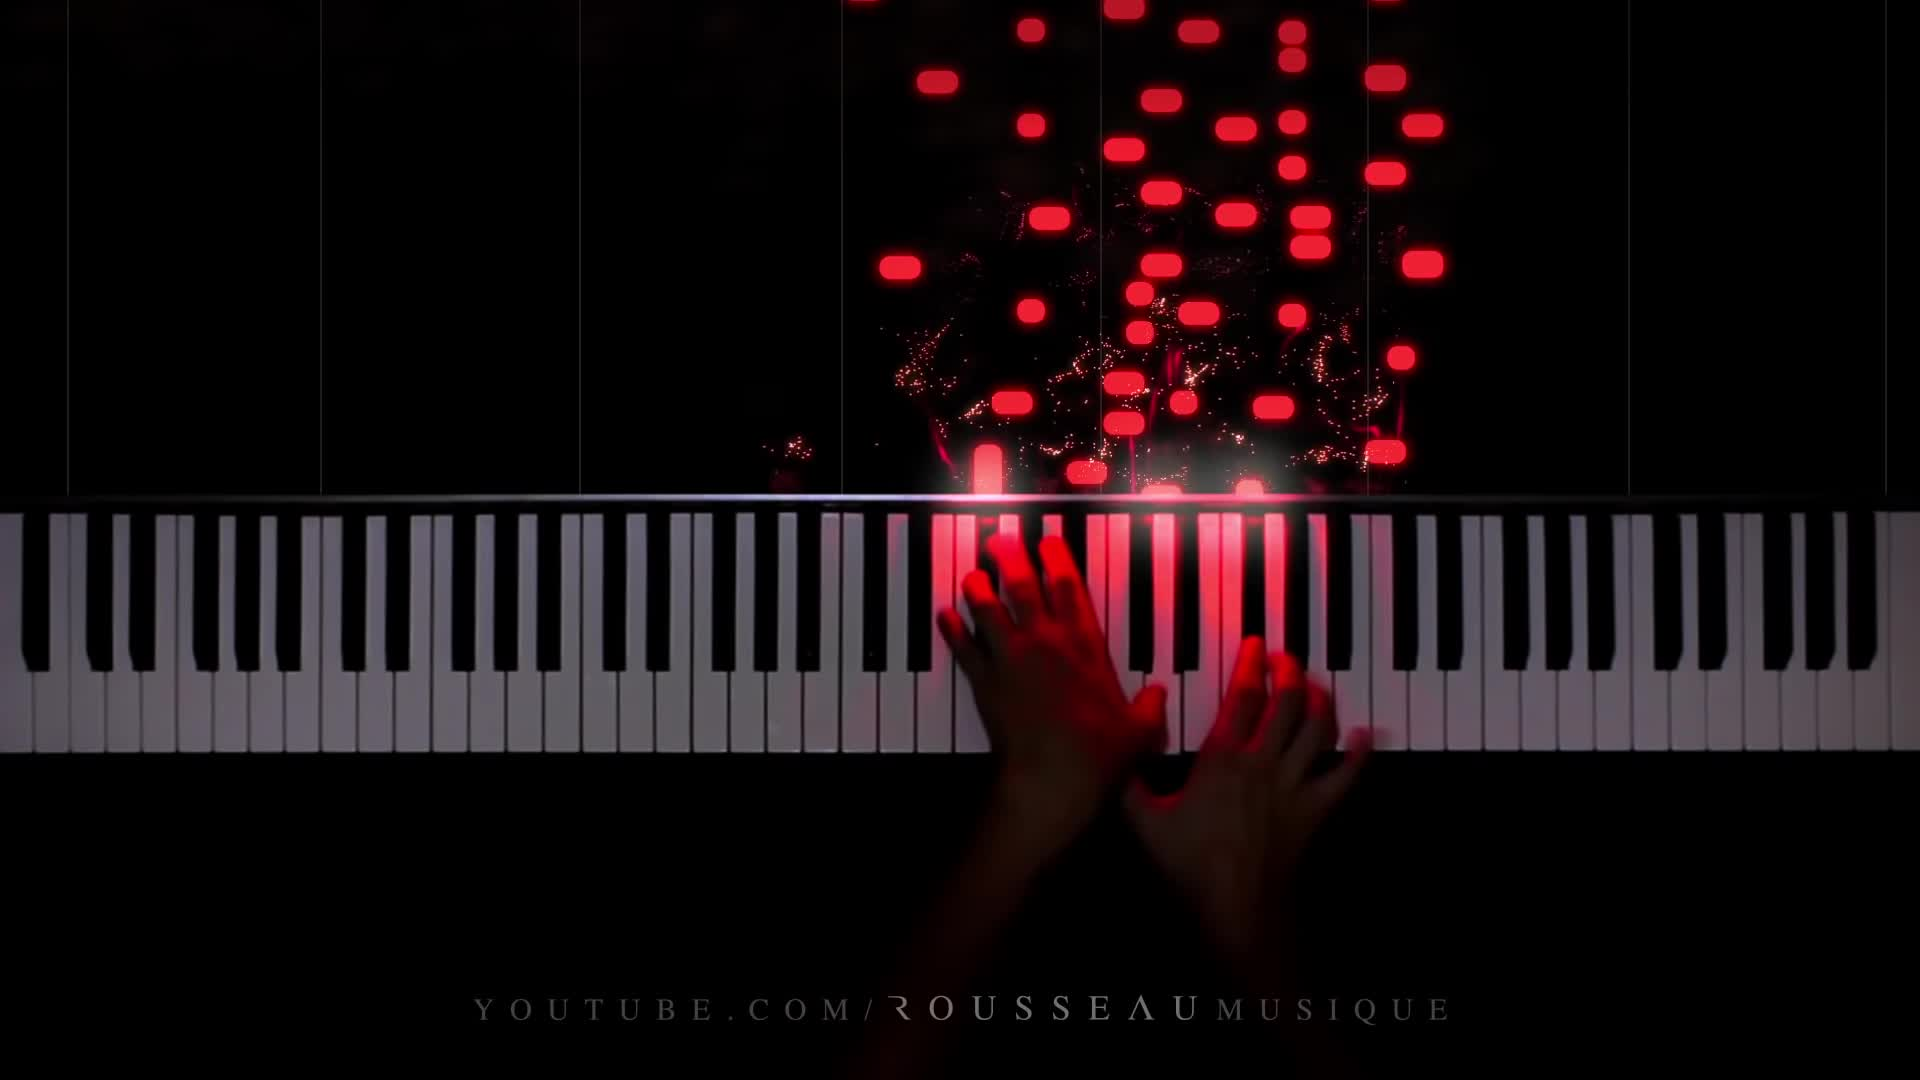left: (938, 531, 1167, 800)
right: (1102, 633, 1374, 899)
